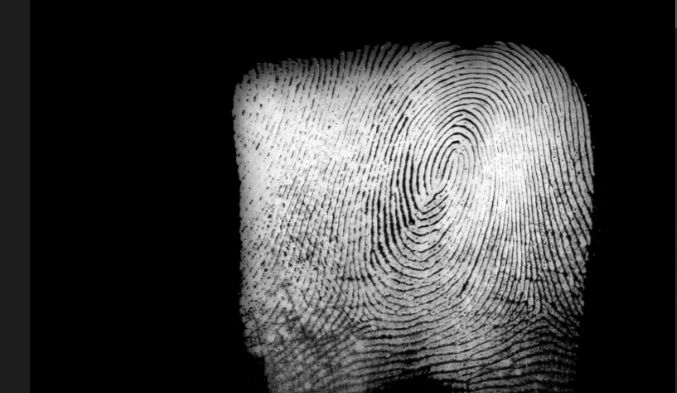nucelo: (441, 144, 467, 191)
verticilo: (529, 291, 557, 324), (350, 301, 384, 327)
